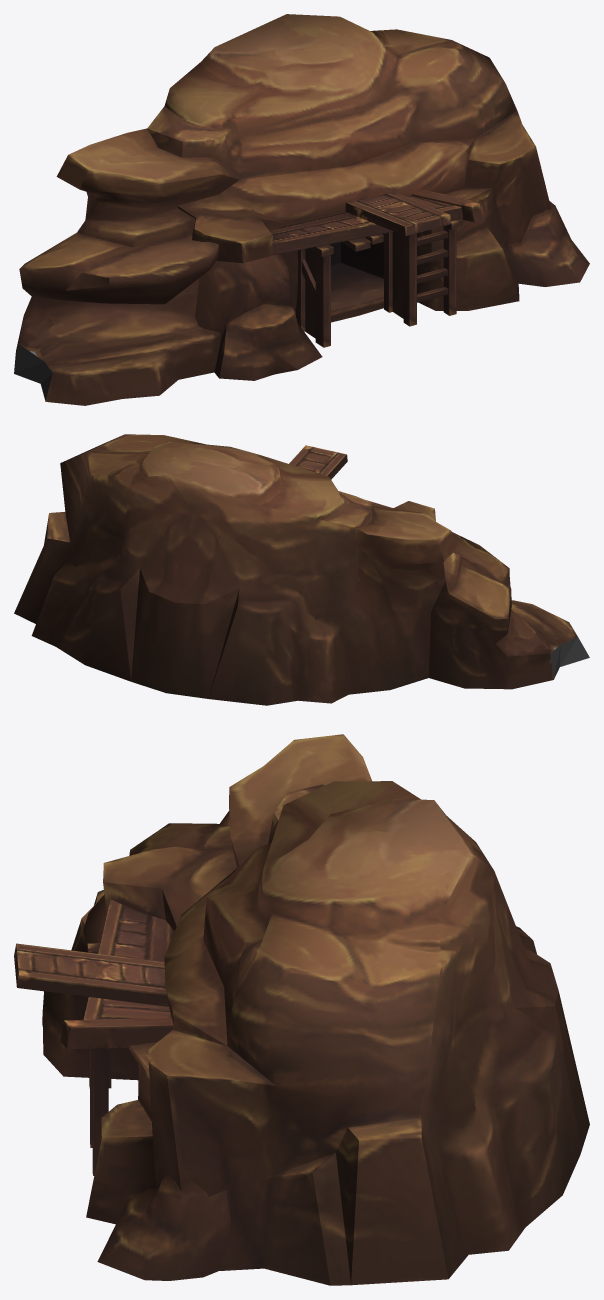
The model's file is ShanDong02.FBX.
3 views of the same model, one above another, from view 1: azimuth 30°, elevation 25°; view 2: azimuth 150°, elevation 25°; view 3: azimuth 270°, elevation 25° (orthographic). The views are drawn at different scales.
Parts seen in each view (by area): view 1: 对象004; view 2: 对象004; view 3: 对象004.
Part boxes in pixels (box(x1,y1,x2,y2)): 对象004: box(14, 14, 589, 405); 对象004: box(14, 434, 589, 705); 对象004: box(14, 734, 589, 1285).
Size of the model in its own units: 604 by 218 by 383.
